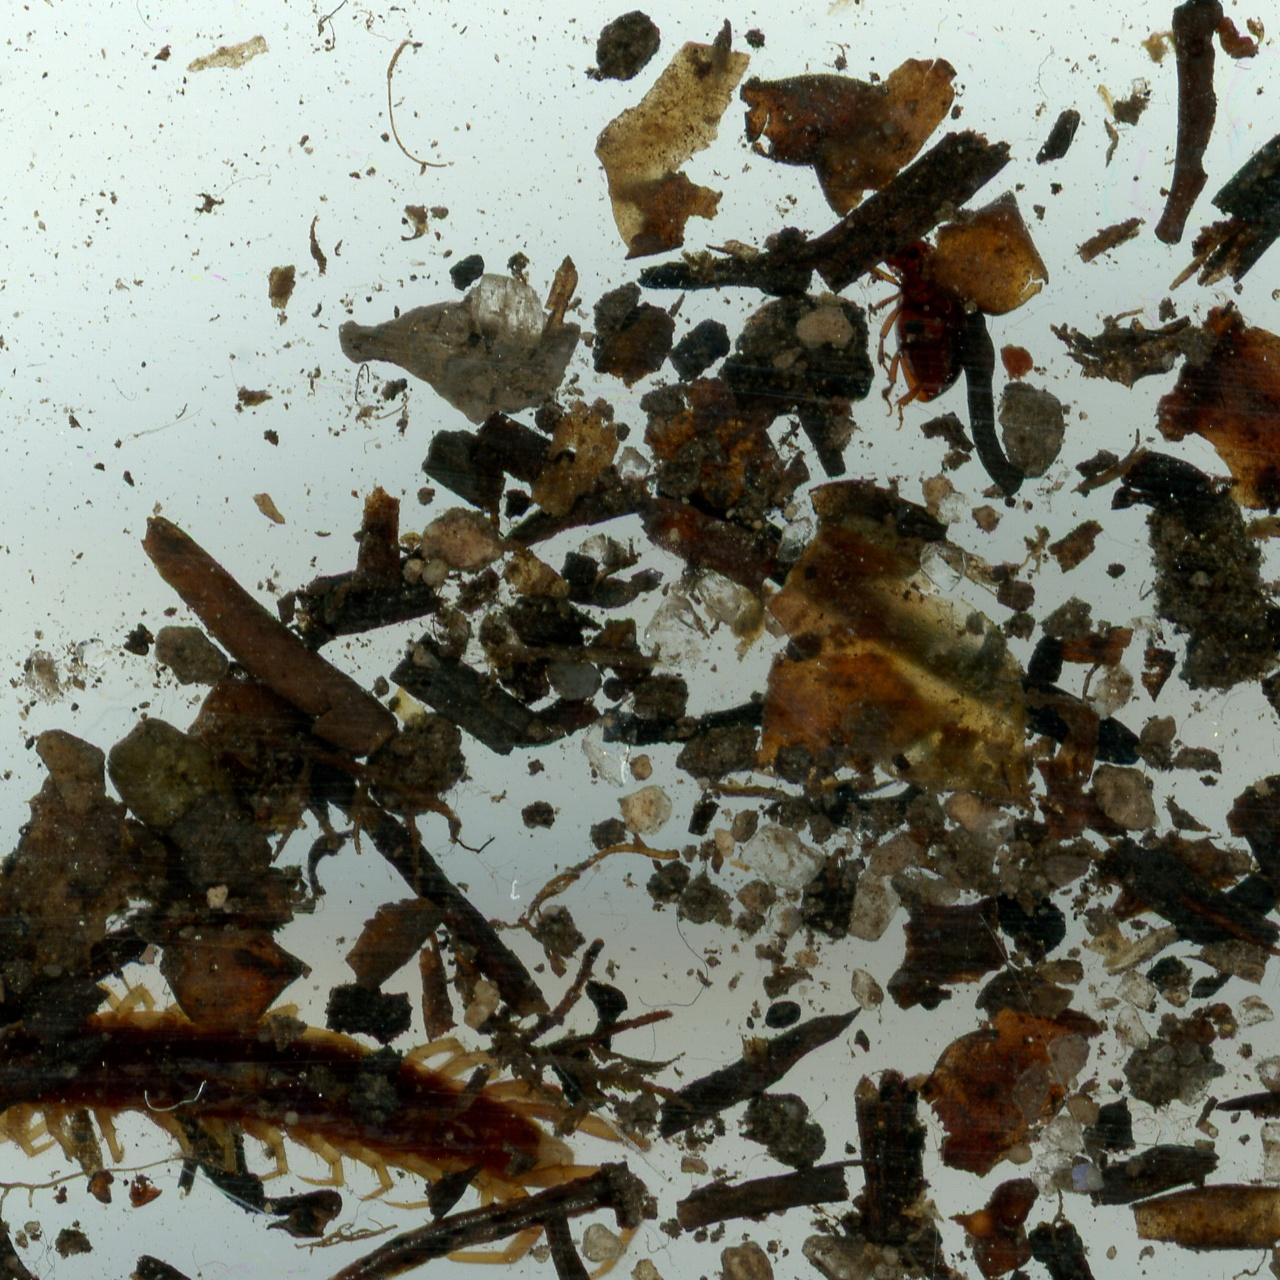arthropod: (0, 986, 659, 1280), (864, 232, 966, 438)
